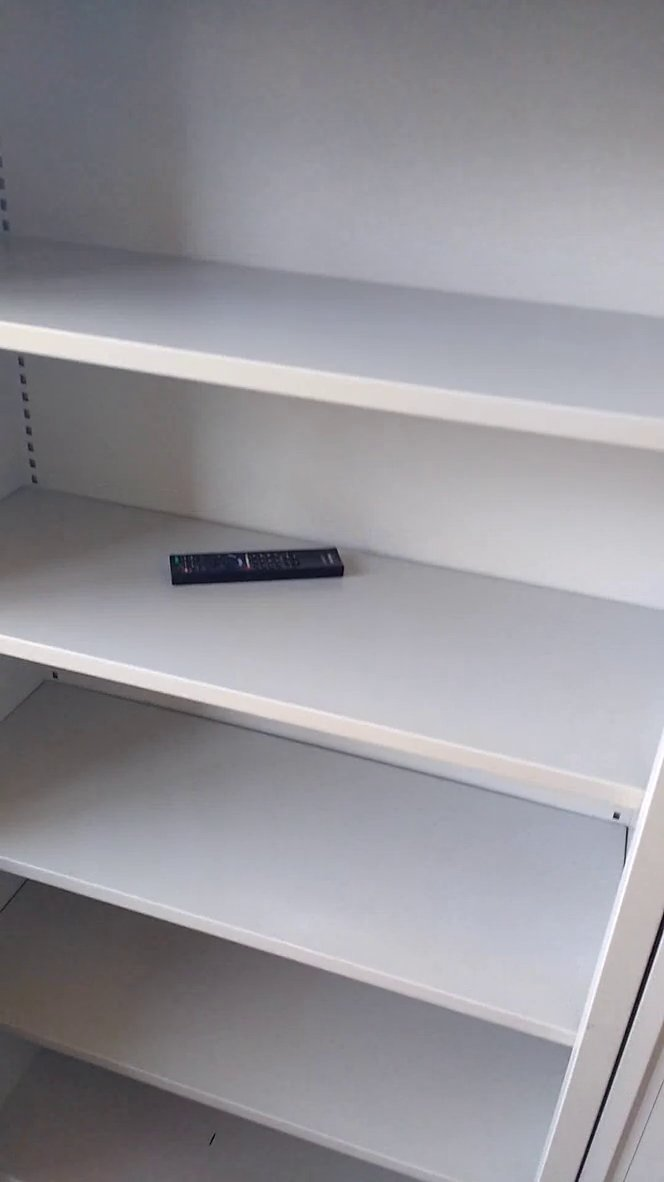remote: (160, 536, 351, 602)
